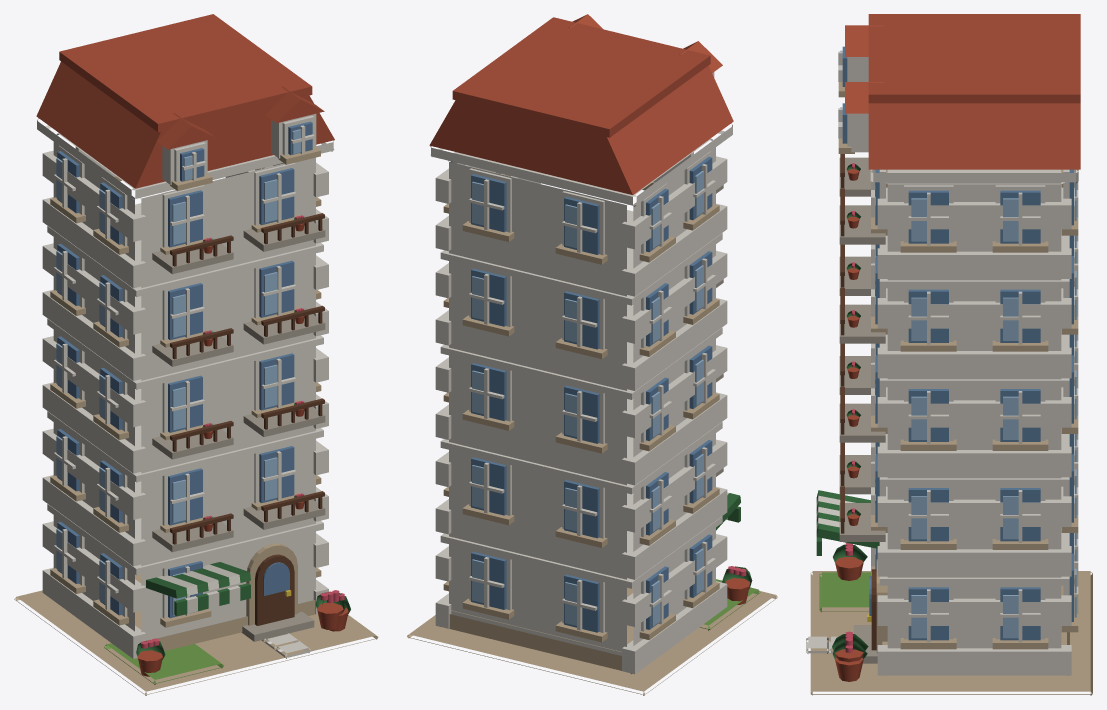
File: building-tall-b.glb
3 views of the same model, side by side, from view 1: azimuth 30°, elevation 25°; view 2: azimuth 150°, elevation 25°; view 3: azimuth 270°, elevation 25° (orthographic). The views are drawn at different scales.
Parts seen in each view (by area): view 1: building-tall-b; view 2: building-tall-b; view 3: building-tall-b.
Boxes of the visible parts, box(x1,y1,x2,y2) form: building-tall-b: box(14, 14, 378, 695); building-tall-b: box(407, 14, 777, 695); building-tall-b: box(806, 14, 1092, 695).
Bounding box in the file's own units: 0.8599 × 1.91 × 0.8522.
